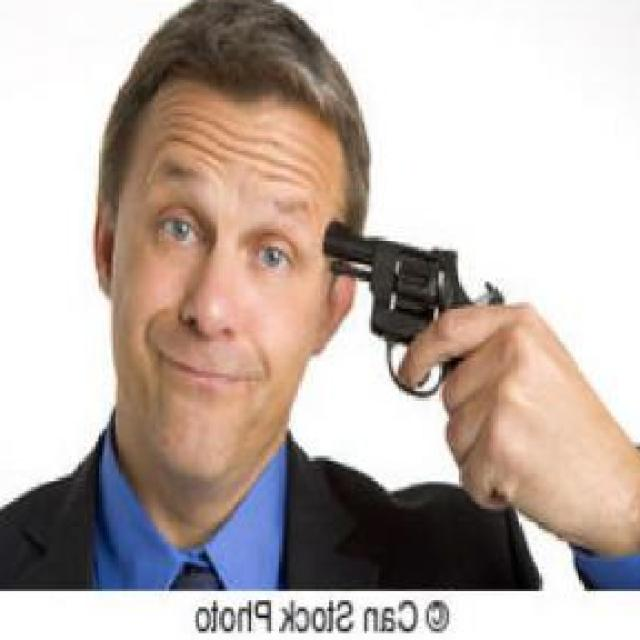pistol: (320, 218, 511, 400)
